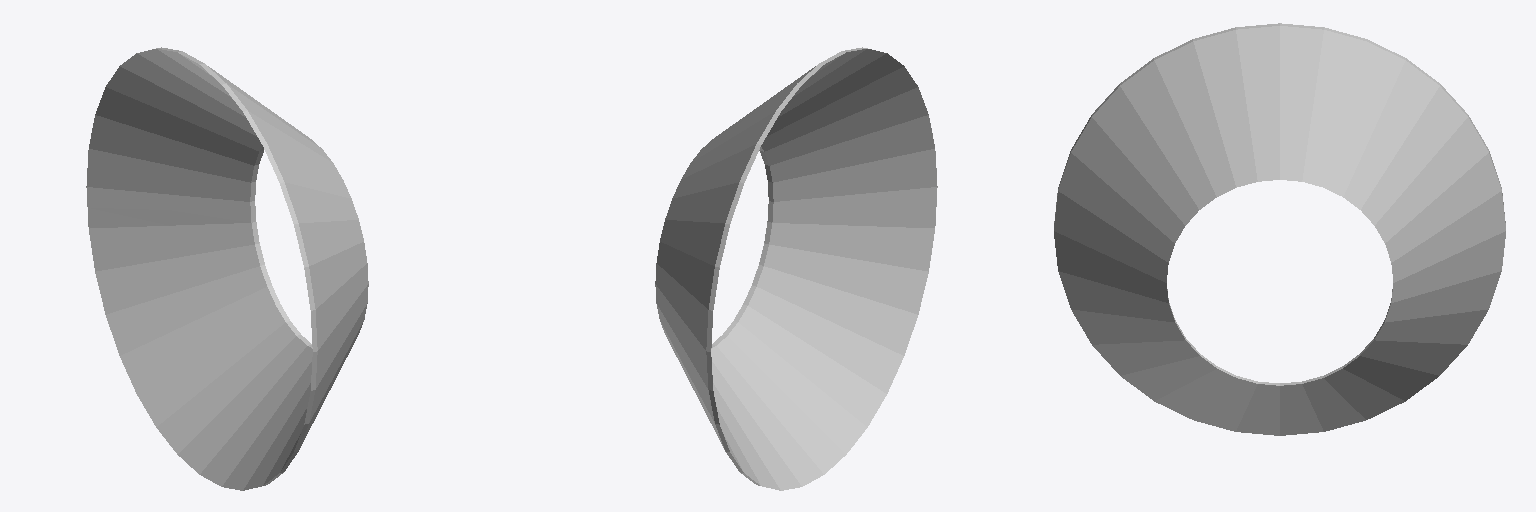
File: RHDNonDrive.obj
The picture shows the model from 3 angles: view 1: azimuth 30°, elevation 25°; view 2: azimuth 150°, elevation 25°; view 3: azimuth 270°, elevation 25°; orthographic projection.
Parts seen in each view (by area): view 1: RHDNonDrive; view 2: RHDNonDrive; view 3: RHDNonDrive.
Part boxes in pixels (bbox=[...]): RHDNonDrive: bbox=[86, 47, 368, 490]; RHDNonDrive: bbox=[655, 47, 937, 490]; RHDNonDrive: bbox=[1054, 23, 1505, 435].
Bounding box in the file's own units: 0.019 × 0.066 × 0.066.